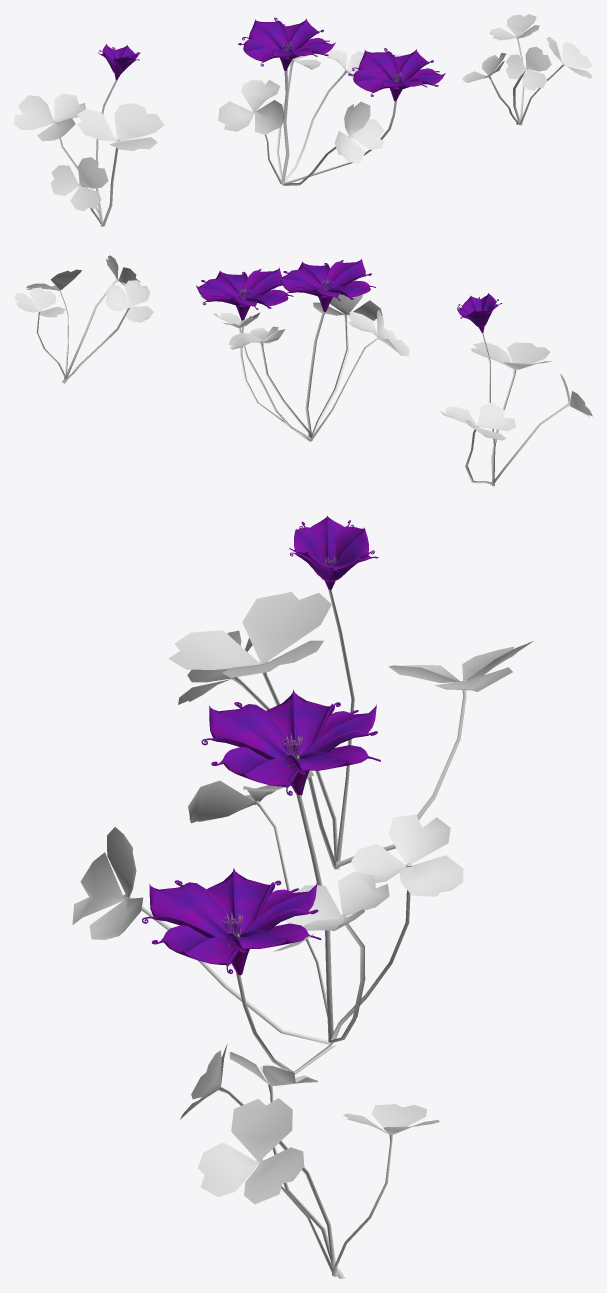
Rendered from moon flower fase 1,2,3.fbx.
3 renders of one model, top to bottom at view 1: azimuth 30°, elevation 25°; view 2: azimuth 150°, elevation 25°; view 3: azimuth 270°, elevation 25°, orthographic. The views are drawn at different scales.
Parts seen in each view (by area): view 1: shrub_sorrel_01_a, shrub_sorrel_01_b, shrub_sorrel_01_c, Sphere.004, Sphere.001, Sphere.003; view 2: shrub_sorrel_01_b, shrub_sorrel_01_a, shrub_sorrel_01_c, Sphere.001, Sphere.004, Sphere.003; view 3: shrub_sorrel_01_b, shrub_sorrel_01_a, shrub_sorrel_01_c, Sphere.001, Sphere.004, Sphere.003.
Part boxes in pixels (x1,y1,x2,y2): shrub_sorrel_01_a: [14, 79, 164, 226]; shrub_sorrel_01_b: [218, 50, 403, 185]; shrub_sorrel_01_c: [462, 14, 592, 125]; Sphere.004: [348, 48, 445, 101]; Sphere.001: [238, 17, 335, 70]; Sphere.003: [98, 44, 140, 80]; shrub_sorrel_01_b: [200, 280, 409, 441]; shrub_sorrel_01_a: [440, 333, 592, 486]; shrub_sorrel_01_c: [14, 255, 153, 383]; Sphere.001: [278, 259, 375, 311]; Sphere.004: [196, 267, 293, 320]; Sphere.003: [457, 293, 502, 332]; shrub_sorrel_01_b: [72, 771, 463, 1074]; shrub_sorrel_01_a: [168, 589, 533, 869]; shrub_sorrel_01_c: [180, 1043, 439, 1278]; Sphere.001: [201, 689, 380, 795]; Sphere.004: [142, 868, 321, 975]; Sphere.003: [289, 515, 378, 590].
Size of the model in its own units: 330 by 104 by 122.
